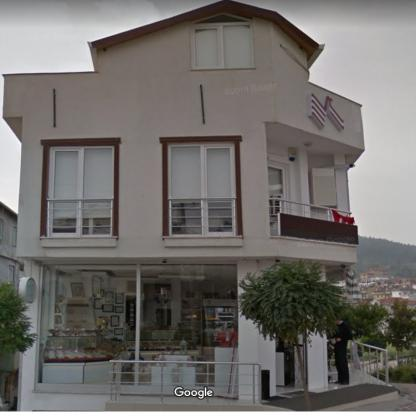door: (269, 162, 287, 200)
window: (36, 260, 237, 393), (168, 142, 235, 237), (48, 146, 113, 237), (190, 13, 254, 68), (9, 265, 14, 283), (13, 228, 17, 246)
